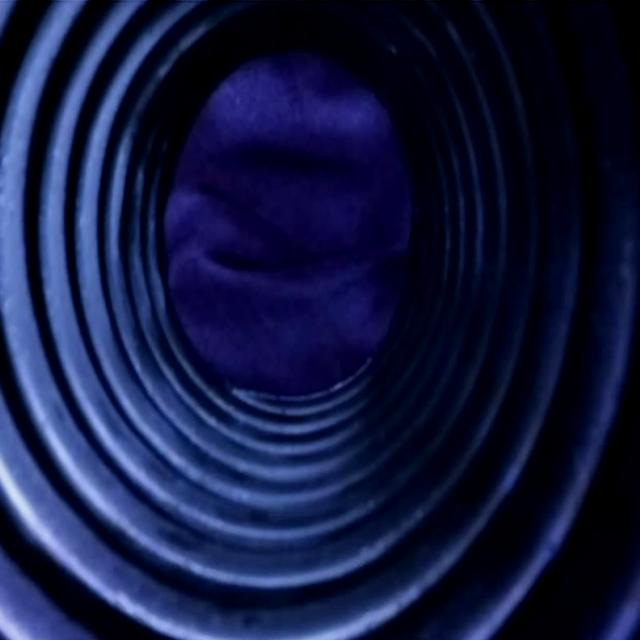block: (166, 52, 406, 390)
